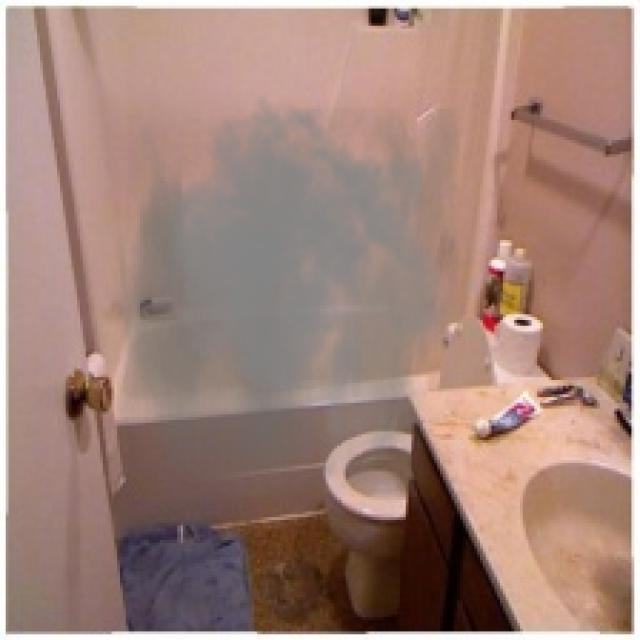Smoke: (114, 94, 460, 497)
